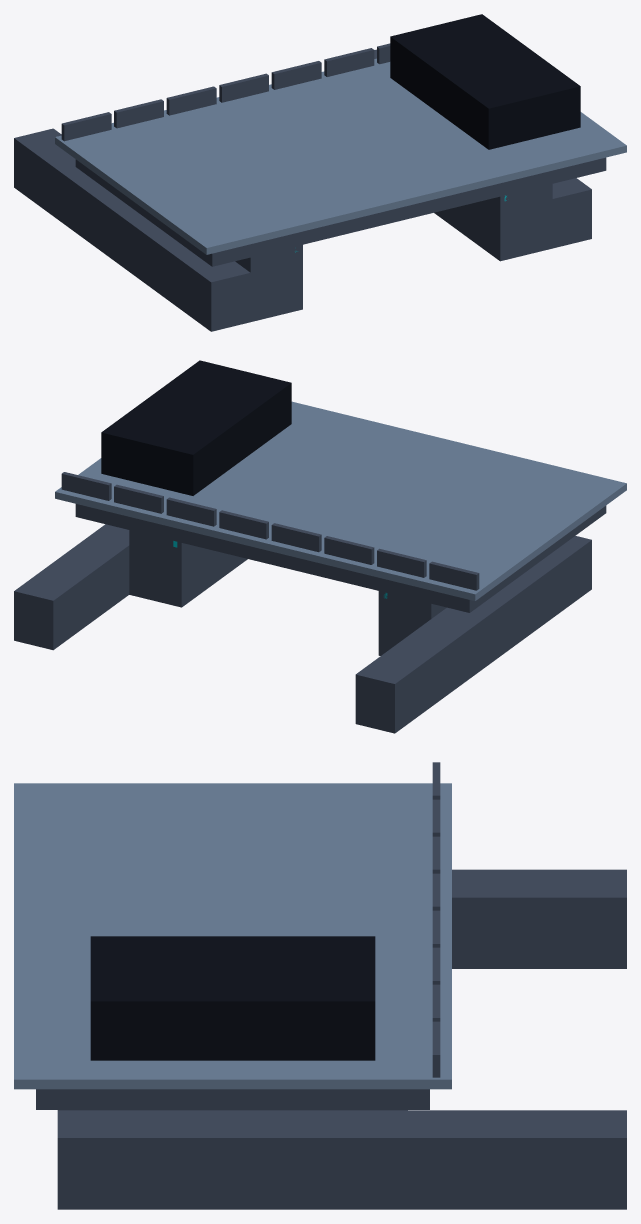
Rendered from tunnel_portal_overpass.glb.
3 views of the same model, one above another, from view 1: azimuth 30°, elevation 25°; view 2: azimuth 150°, elevation 25°; view 3: azimuth 270°, elevation 25° (orthographic). The views are drawn at different scales.
Visible parts, largest first — view 1: PortalConcreteMat; view 2: PortalConcreteMat; view 3: PortalConcreteMat.
Boxes of the visible parts, x1,y1,x2,y2 form: PortalConcreteMat: (14, 14, 626, 331); PortalConcreteMat: (14, 360, 626, 733); PortalConcreteMat: (14, 762, 626, 1209).
Bounding box in the file's own units: 32 × 10.5 × 28.
